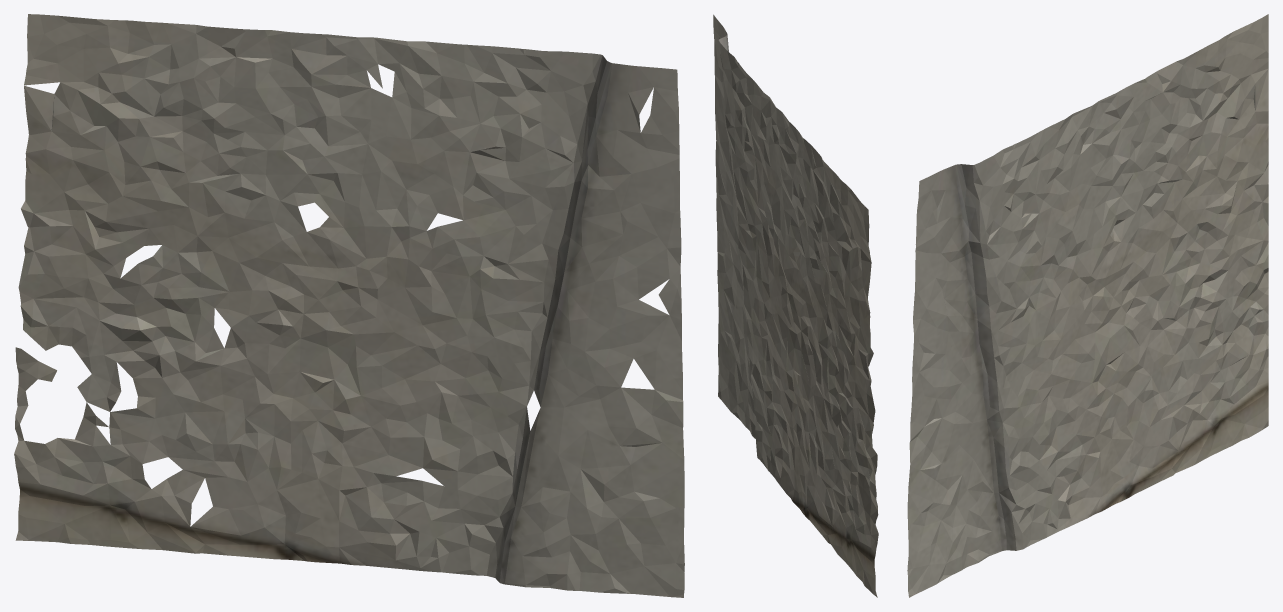
3 views of the same model, side by side, from view 1: azimuth 30°, elevation 25°; view 2: azimuth 150°, elevation 25°; view 3: azimuth 270°, elevation 25° (orthographic). The views are drawn at different scales.
Size of the model in its own units: 0.743 by 0.8374 by 0.6574.
3 materials, 3 textured.
